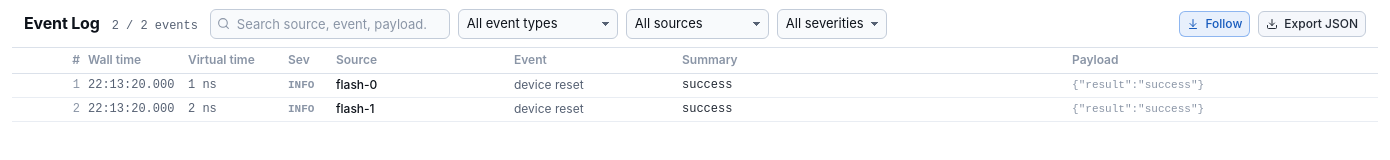
Test case: LogsPage › filters persistent events by device
Select "flash-1" in the dropdown named "Filter logs by device". click: (697, 24)
box: x1=626 y1=8 x2=769 y2=38
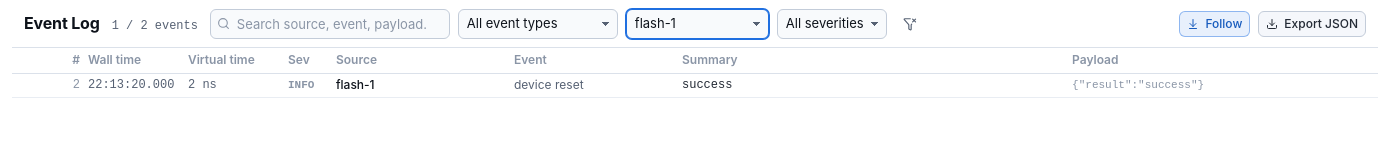
Check: the text "flash-1" is shown, box x1=336 y1=77 x2=375 y2=92
Check: the button "flash-0" is gone
Check: the text "1 / 2 events" is shown, box x1=112 y1=19 x2=198 y2=33
